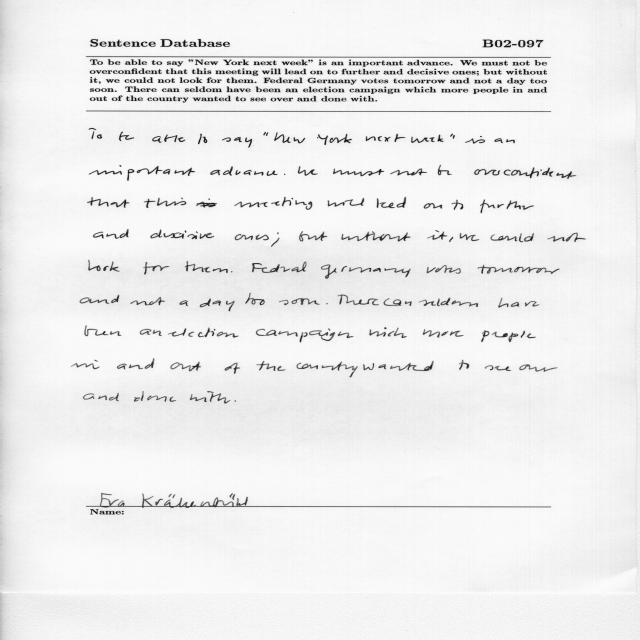word: (89, 165, 196, 181), (256, 329, 353, 343), (321, 265, 411, 279), (474, 167, 576, 179), (235, 197, 313, 210), (296, 362, 358, 378), (478, 265, 560, 274), (168, 328, 239, 338), (363, 361, 434, 371), (480, 200, 534, 213), (342, 232, 411, 242), (210, 166, 278, 176), (252, 261, 307, 273), (481, 331, 536, 343), (151, 230, 215, 240), (419, 297, 478, 307), (185, 261, 228, 273), (190, 392, 230, 404), (88, 197, 130, 208), (144, 197, 186, 208), (134, 391, 176, 402), (200, 299, 235, 312), (338, 295, 379, 306), (369, 327, 407, 338), (499, 298, 540, 308), (333, 169, 384, 177), (117, 359, 154, 370), (490, 233, 534, 242), (317, 134, 352, 145), (89, 260, 120, 272), (423, 329, 464, 338), (85, 326, 121, 336), (80, 295, 119, 304), (94, 229, 129, 239), (548, 233, 586, 242), (274, 133, 305, 144), (144, 262, 170, 275), (222, 137, 252, 148), (328, 198, 364, 207), (366, 134, 406, 142), (377, 197, 406, 208), (426, 265, 461, 274), (170, 362, 201, 372), (300, 231, 328, 242), (520, 364, 558, 372), (256, 361, 286, 371), (152, 134, 185, 143), (83, 393, 119, 401), (279, 298, 320, 305), (130, 297, 165, 305), (411, 135, 444, 143), (71, 360, 100, 369), (390, 169, 427, 176), (245, 293, 265, 305), (384, 298, 412, 306), (235, 234, 269, 240), (427, 230, 447, 240), (298, 166, 317, 176), (196, 199, 217, 208), (225, 362, 240, 374), (465, 136, 485, 144), (485, 365, 511, 371), (140, 329, 162, 336), (460, 233, 479, 241), (119, 132, 134, 142), (89, 128, 102, 139), (438, 165, 452, 175), (271, 232, 280, 247), (452, 200, 464, 210), (424, 203, 442, 209), (494, 139, 515, 144), (459, 360, 469, 370), (198, 134, 207, 145), (180, 300, 189, 306), (450, 134, 455, 139), (264, 132, 269, 136), (450, 237, 454, 242), (284, 174, 286, 175), (231, 271, 232, 273), (326, 303, 328, 304), (235, 400, 236, 402)
